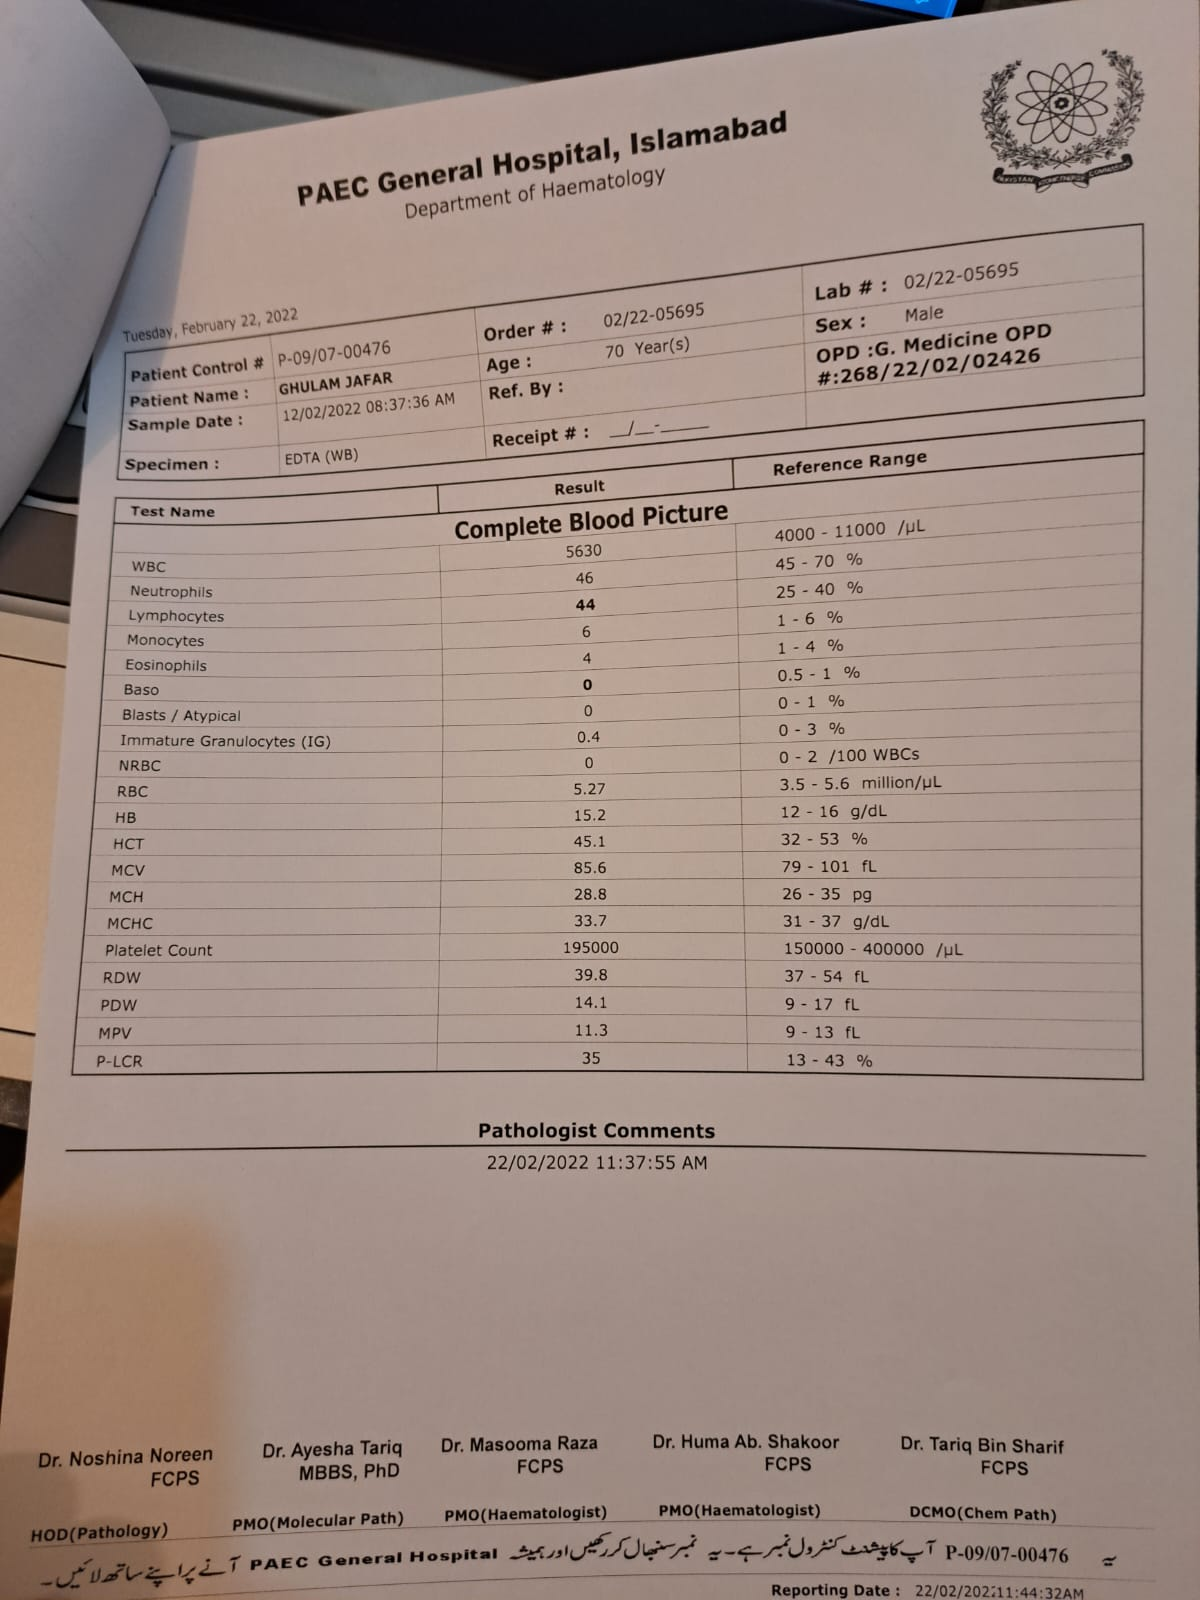report: (66, 420, 1147, 1089)
